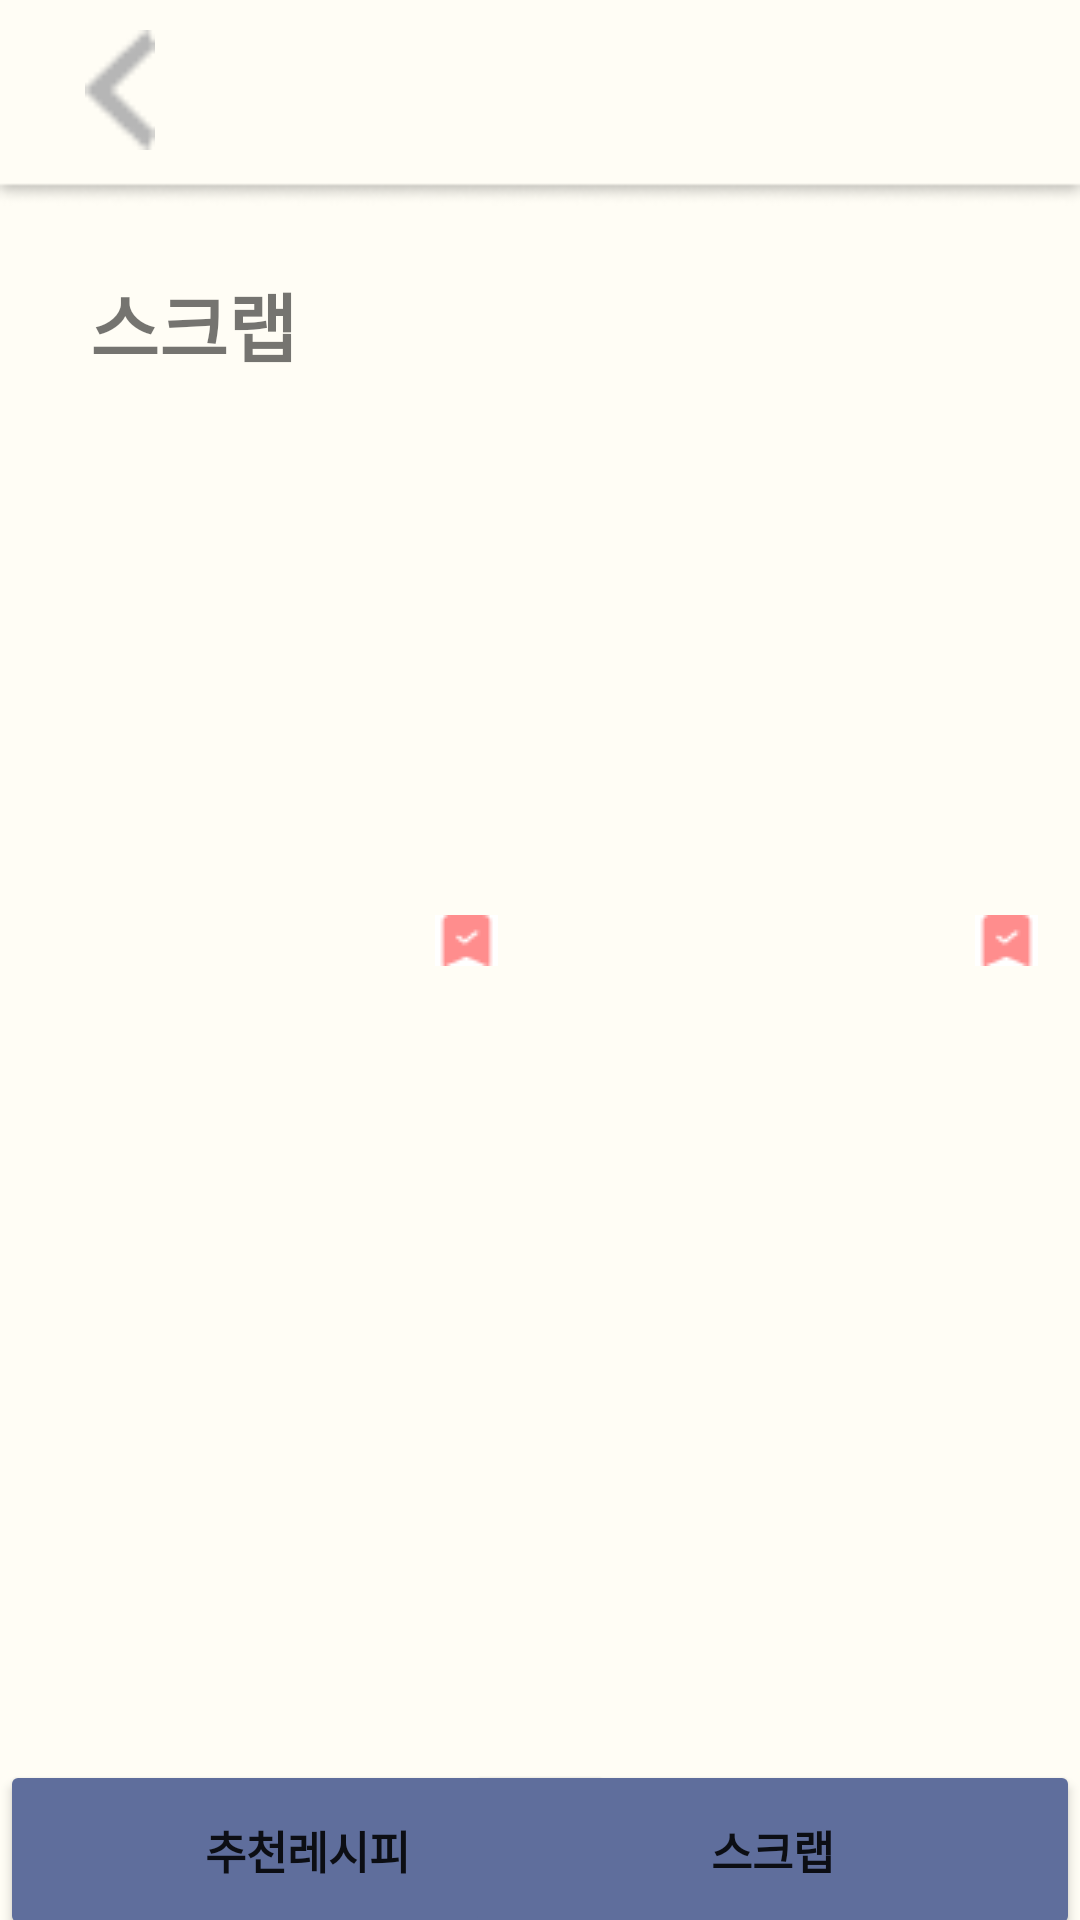

Where to tap for icons on this 1080px x 1920px app screen, as (x=x, y=y):
backbutton: (x=120, y=90)
redscrap: (x=466, y=940), (x=1006, y=940)
